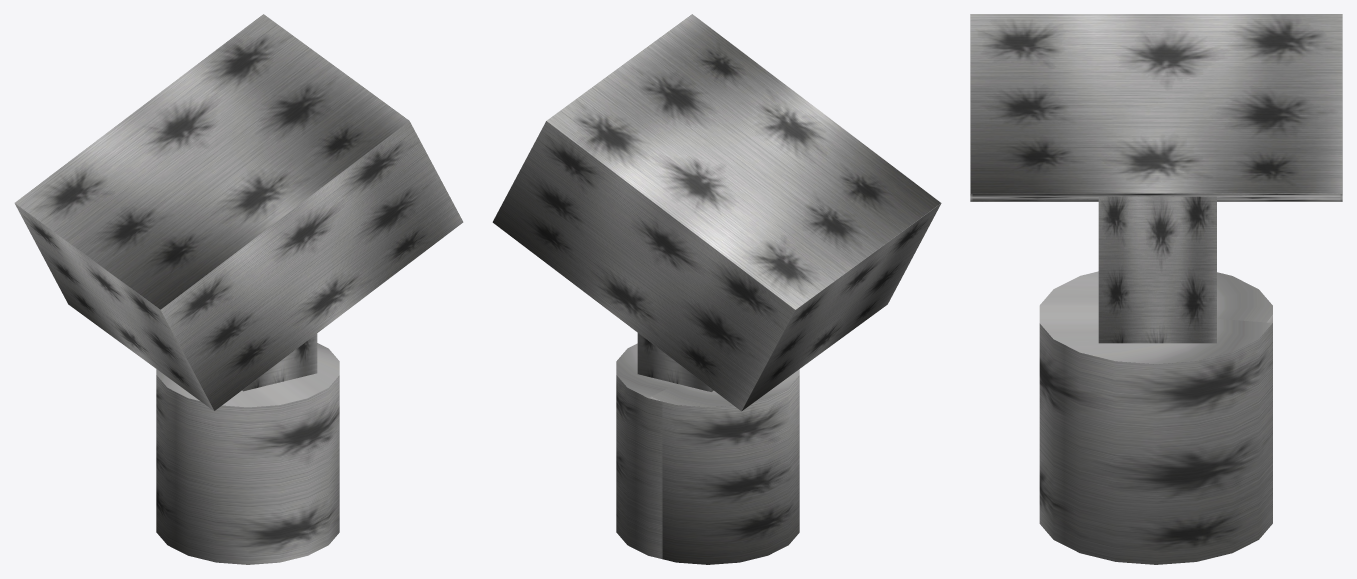
The model's file is SamFrac.FBX.
The picture shows the model from 3 angles, left to right: view 1: azimuth 30°, elevation 25°; view 2: azimuth 150°, elevation 25°; view 3: azimuth 270°, elevation 25°; orthographic projection. The views are drawn at different scales.
Parts seen in each view (by area): view 1: Box005, Cylinder001, Box004; view 2: Box005, Cylinder001, Box004; view 3: Box005, Cylinder001, Box004.
Part boxes in pixels (left/top/right/bottom): Box005: left=14, top=14, right=463, bottom=411; Cylinder001: left=156, top=343, right=339, bottom=564; Box004: left=242, top=333, right=317, bottom=391; Box005: left=492, top=14, right=941, bottom=411; Cylinder001: left=616, top=343, right=799, bottom=564; Box004: left=637, top=333, right=713, bottom=391; Box005: left=970, top=14, right=1342, bottom=201; Cylinder001: left=1039, top=271, right=1272, bottom=564; Box004: left=1098, top=196, right=1216, bottom=343.
Bounding box in the file's own units: 3.64 × 5.01 × 3.04.
Materials: 3 (3 with a texture image).
